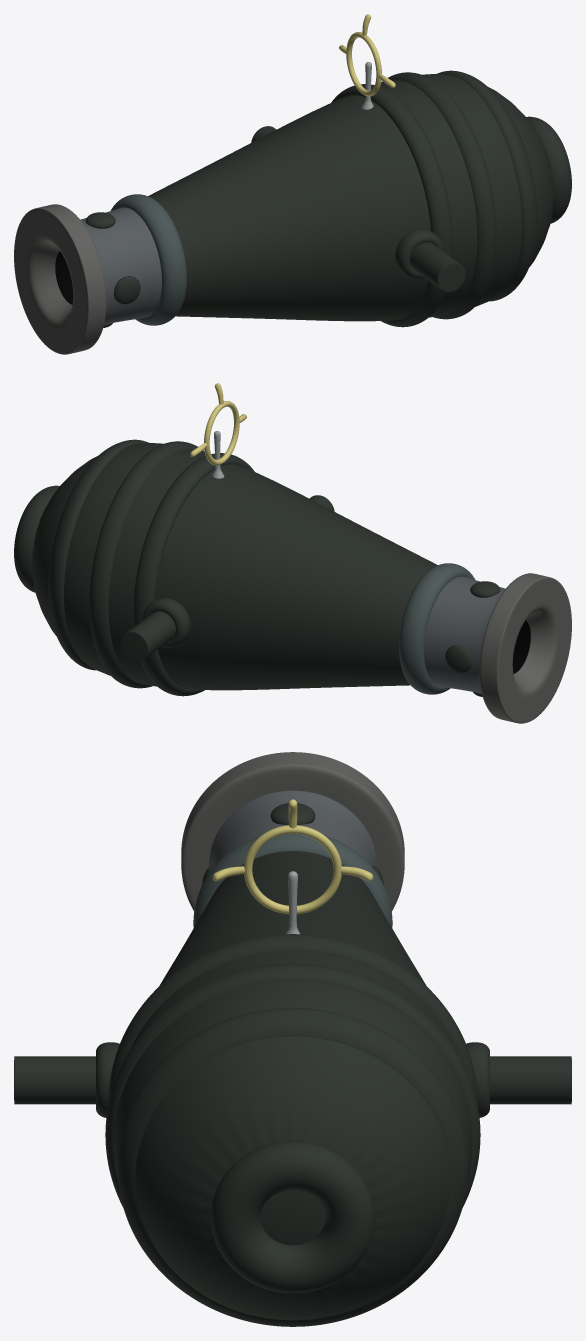
The model's file is cannon_barrel.glb.
The picture shows the model from 3 angles, top to bottom: view 1: azimuth 30°, elevation 25°; view 2: azimuth 150°, elevation 25°; view 3: azimuth 270°, elevation 25°; orthographic projection. The views are drawn at different scales.
Parts seen in each view (by area): view 1: Circle_8, Cylinder.001_9, Torus.007_7, Torus.004_11; view 2: Circle_8, Cylinder_12, Torus.007_7, Torus_10; view 3: Circle_8, Cylinder.001_9, Cylinder_12, Torus.007_7, Torus.004_11, Torus_10.
Boxes of the visible parts, x1,y1,x2,y2 form: Circle_8: [14, 70, 571, 354]; Cylinder.001_9: [410, 242, 465, 292]; Torus.007_7: [339, 14, 395, 96]; Torus.004_11: [395, 229, 443, 278]; Circle_8: [14, 439, 571, 723]; Cylinder_12: [120, 611, 175, 661]; Torus.007_7: [190, 383, 246, 465]; Torus_10: [142, 598, 190, 647]; Circle_8: [105, 752, 480, 1326]; Cylinder.001_9: [14, 1056, 95, 1104]; Cylinder_12: [490, 1056, 571, 1104]; Torus.007_7: [212, 799, 373, 914]; Torus.004_11: [96, 1042, 119, 1117]; Torus_10: [466, 1042, 489, 1117].
Bounding box in the file's own units: 12.43 × 7.33 × 8.03.
